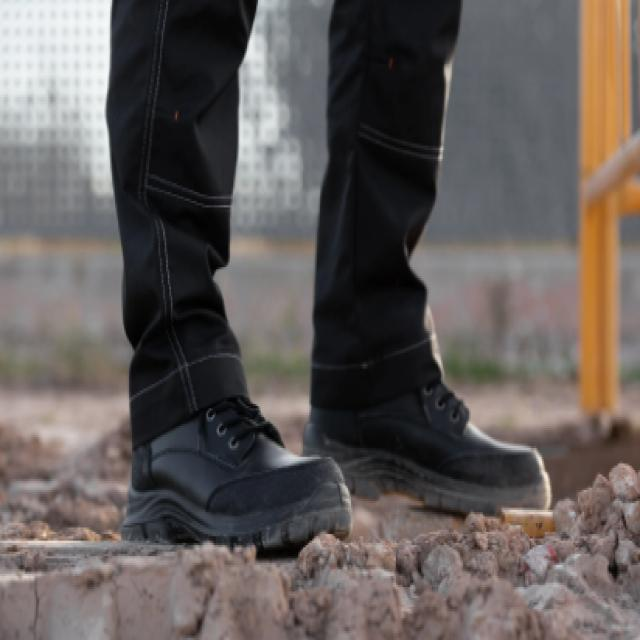shoes: (120, 294, 555, 553)
